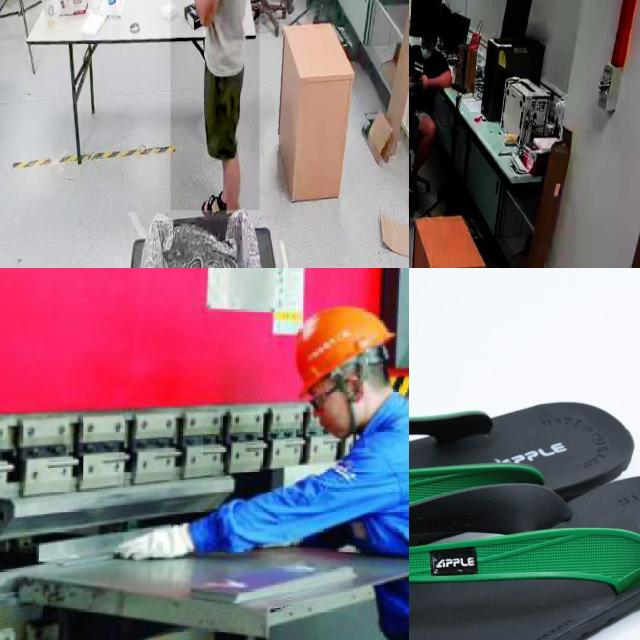No_Ear-Protection: (343, 374, 365, 406)
Sandals: (409, 377, 640, 640)
face_mask: (421, 34, 434, 66)
face_nomask: (313, 396, 351, 438)
hand_glove: (113, 525, 193, 559)
hand_noglove: (411, 71, 423, 93), (416, 73, 428, 91)
head_helmet: (296, 310, 393, 397)
head_nohelmet: (422, 19, 438, 34)
person: (170, 0, 259, 211), (409, 15, 460, 196)
